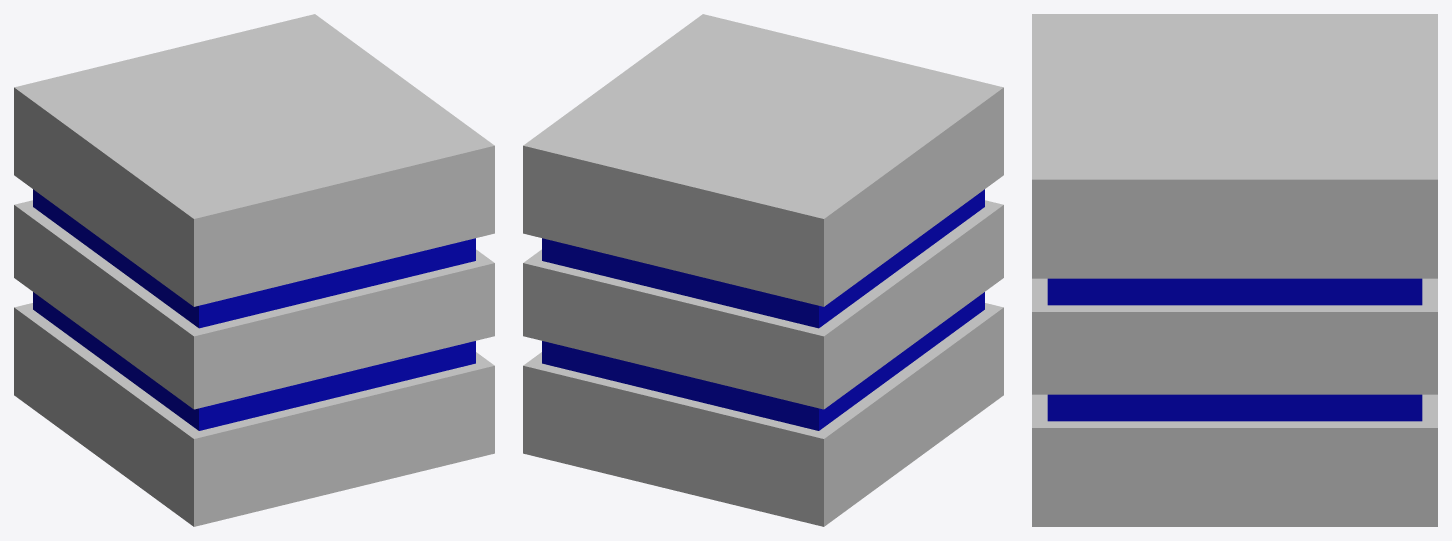
File: Lamp.002.fbx
3 renders of one model, left to right at view 1: azimuth 30°, elevation 25°; view 2: azimuth 150°, elevation 25°; view 3: azimuth 270°, elevation 25°, orthographic. The views are drawn at different scales.
Parts seen in each view (by area): view 1: Lamp.002; view 2: Lamp.002; view 3: Lamp.002.
Boxes of the visible parts, x1,y1,x2,y2 form: Lamp.002: (14,14,494,526); Lamp.002: (523,14,1003,526); Lamp.002: (1032,14,1437,526).
Size of the model in its own units: 0.3063 by 0.2995 by 0.3171.
